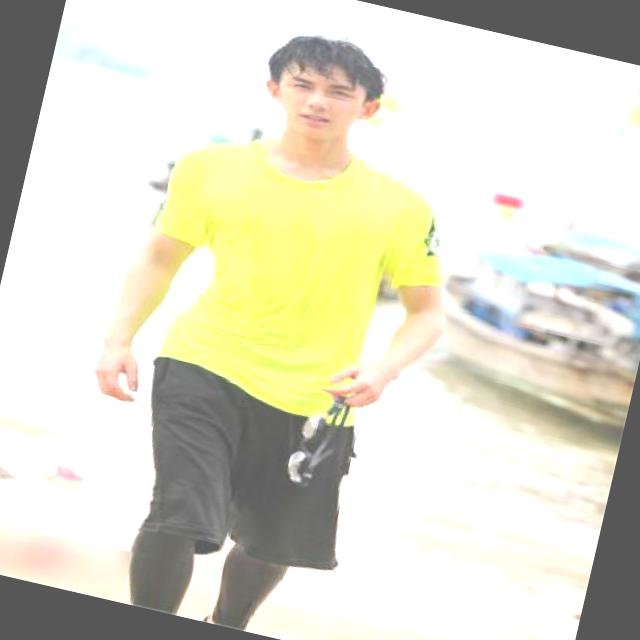Person: (24, 0, 507, 640)
